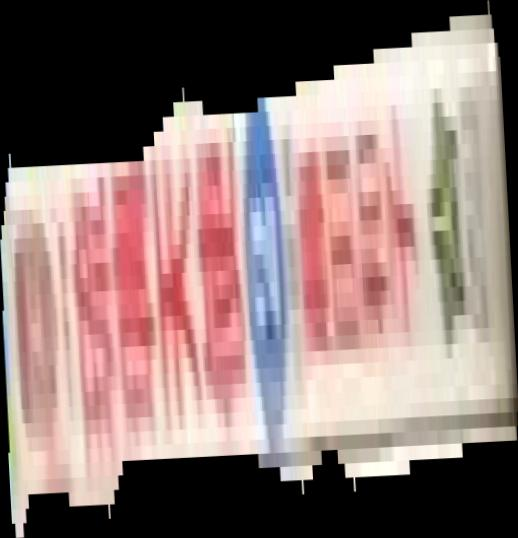flat: (1, 1, 518, 538)
